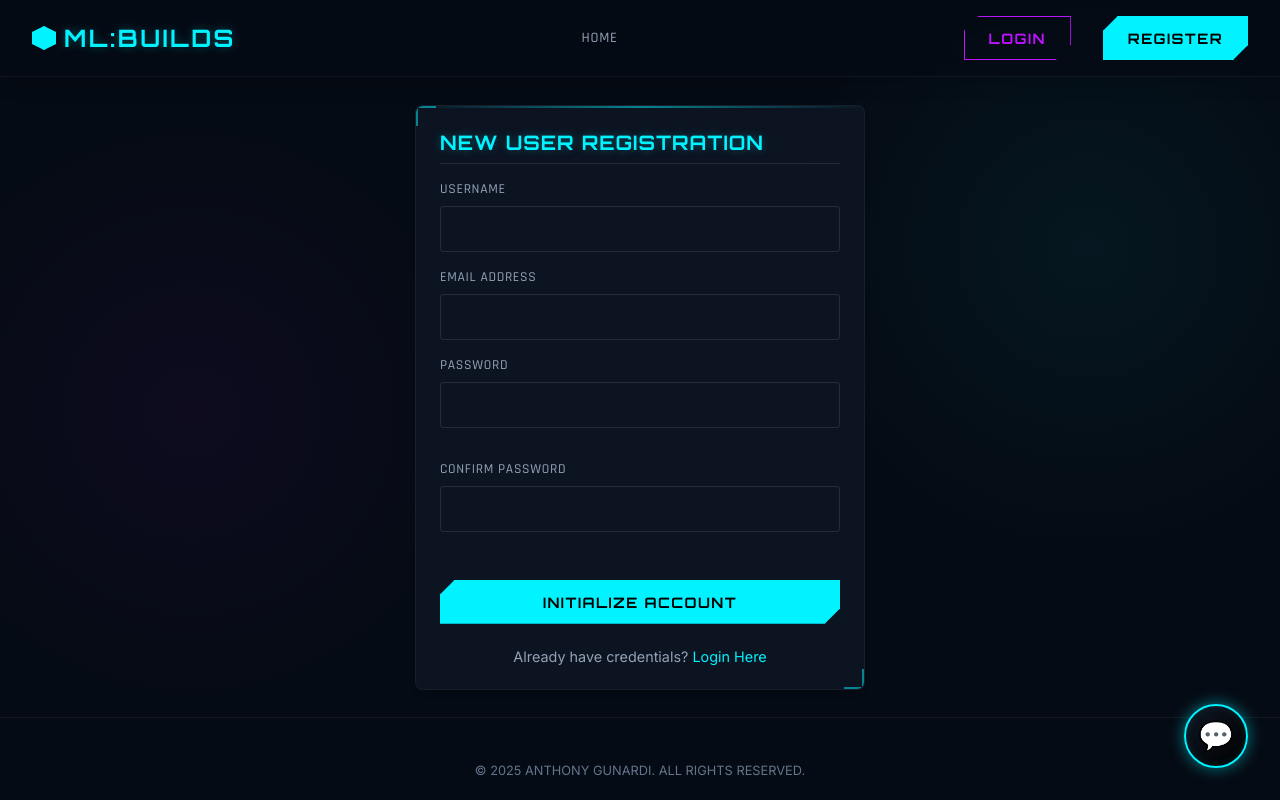
Test: RegisterPage › displays default error on register failure without API message
The image size is (1280, 800).
Type "testuser" into the field labelled "Username" at (640, 228), box top-left (440, 206), bottom-right (840, 252)
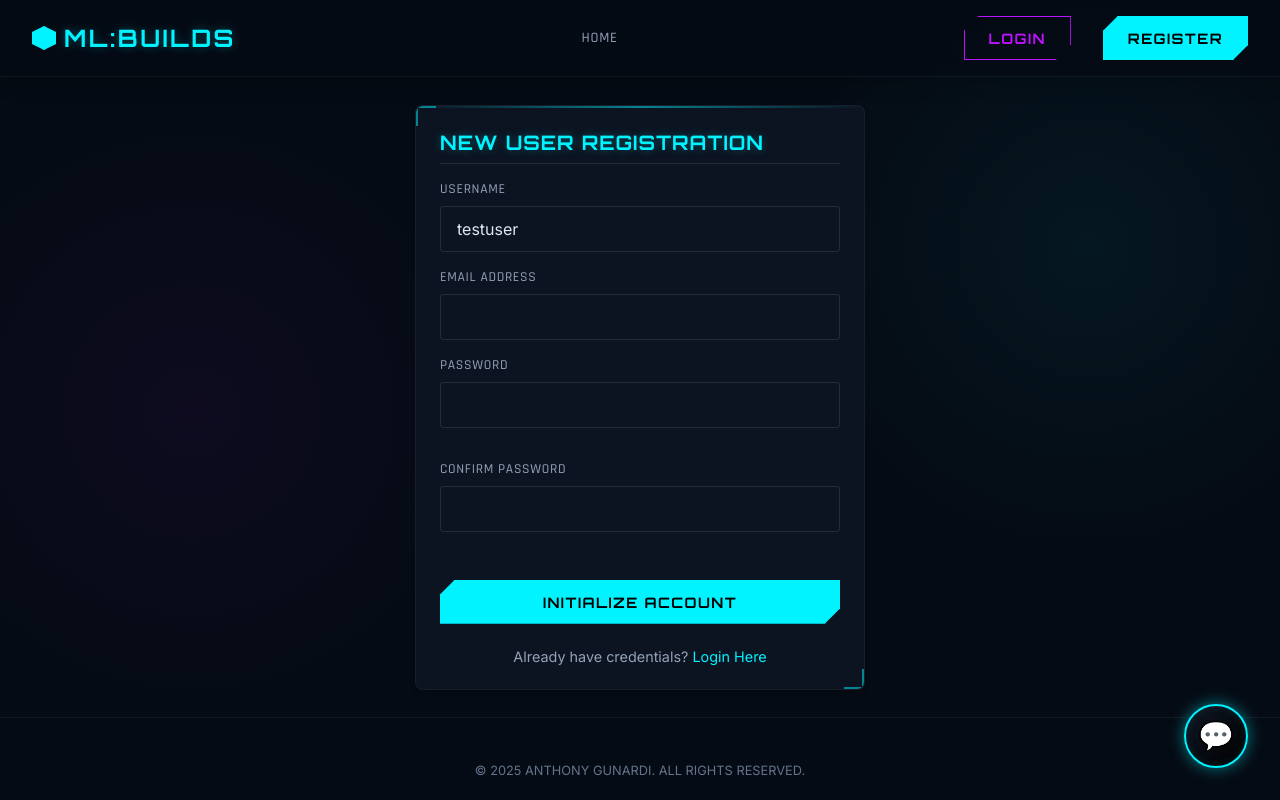
Type "test@test.com" into the field labelled "Email Address" at (640, 316), box top-left (440, 294), bottom-right (840, 340)
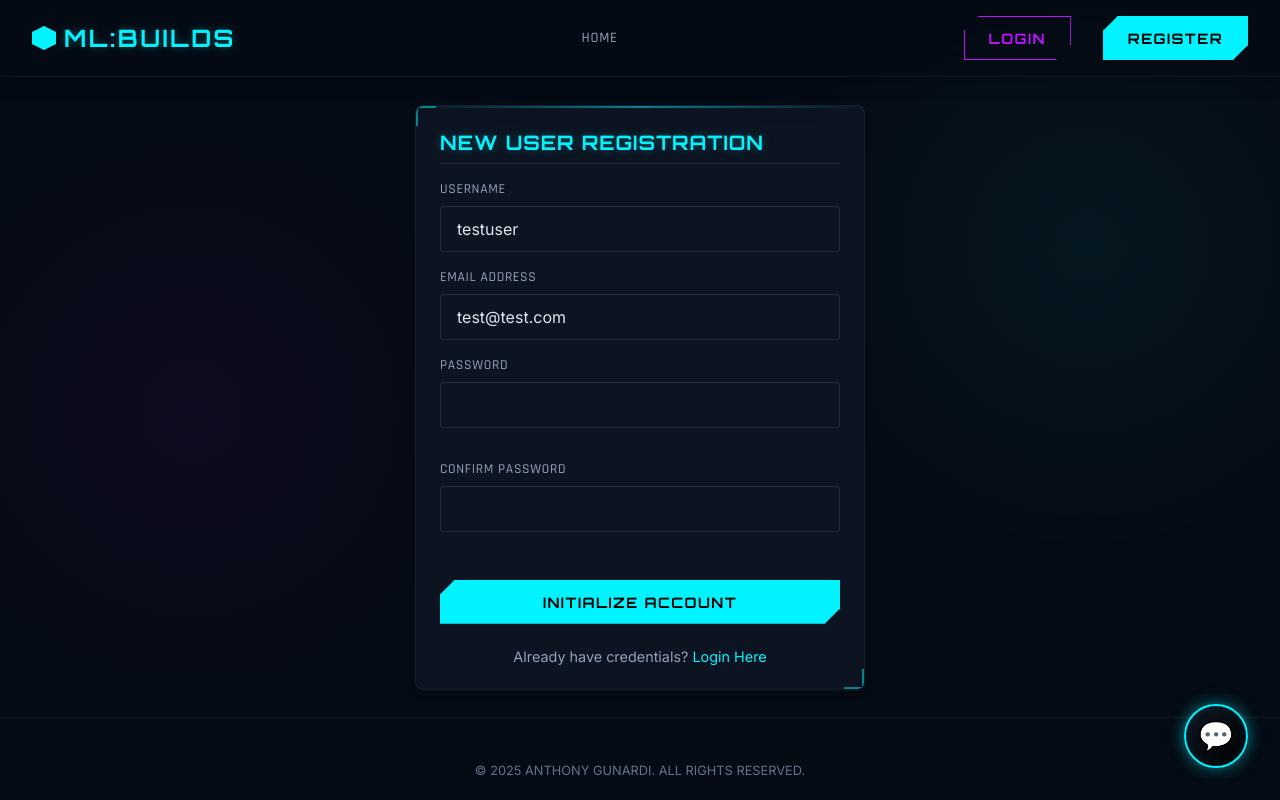
Type "password123" into the password field labelled "Password" at (640, 404), box top-left (440, 382), bottom-right (840, 428)
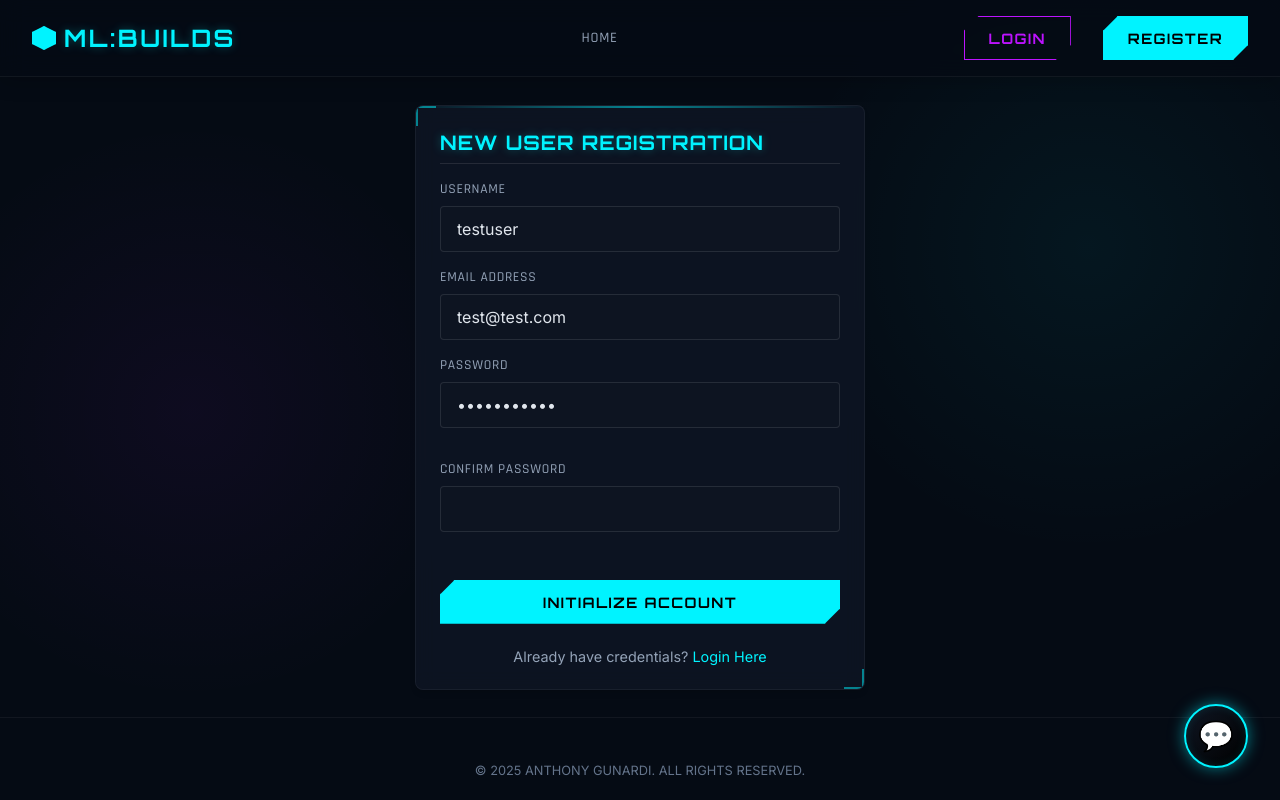
Type "password123" into the password field labelled "Confirm Password" at (640, 508), box top-left (440, 486), bottom-right (840, 532)
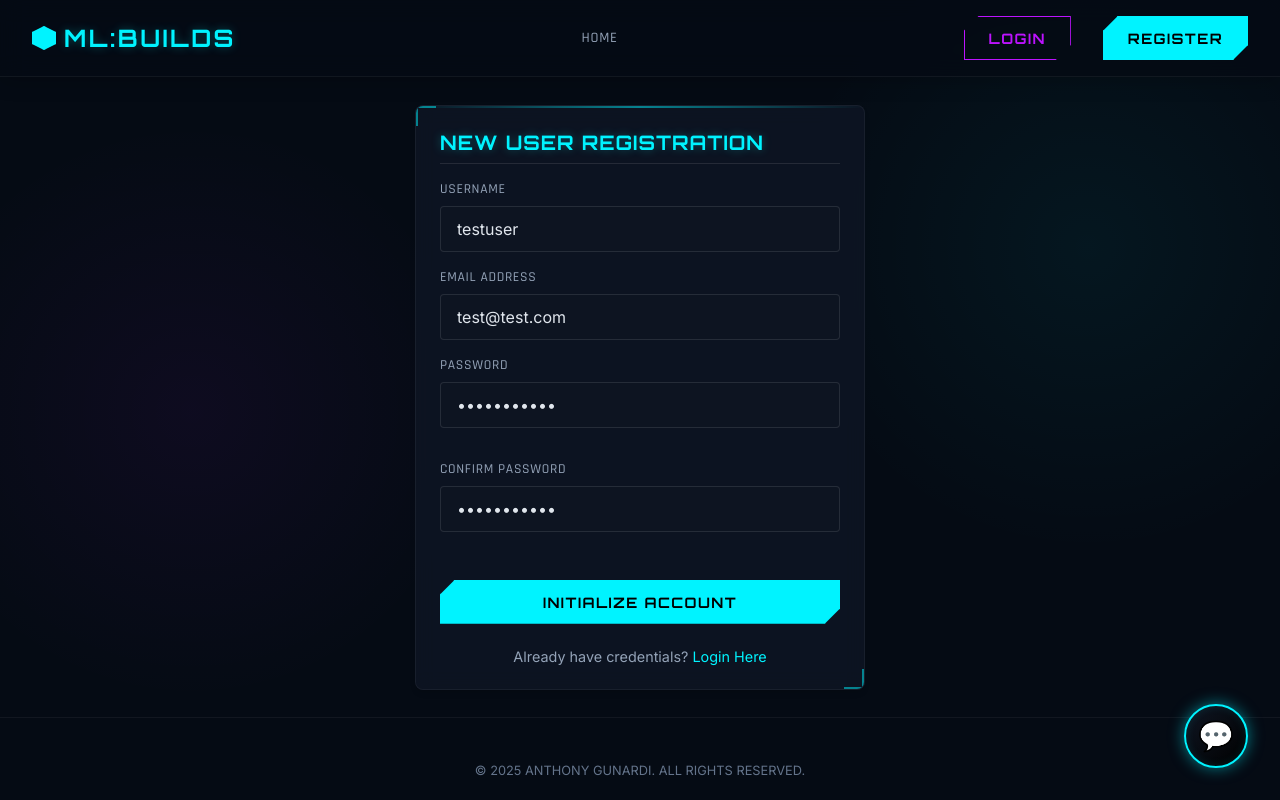
Click the button "Initialize Account" at (640, 602), box top-left (440, 580), bottom-right (840, 624)
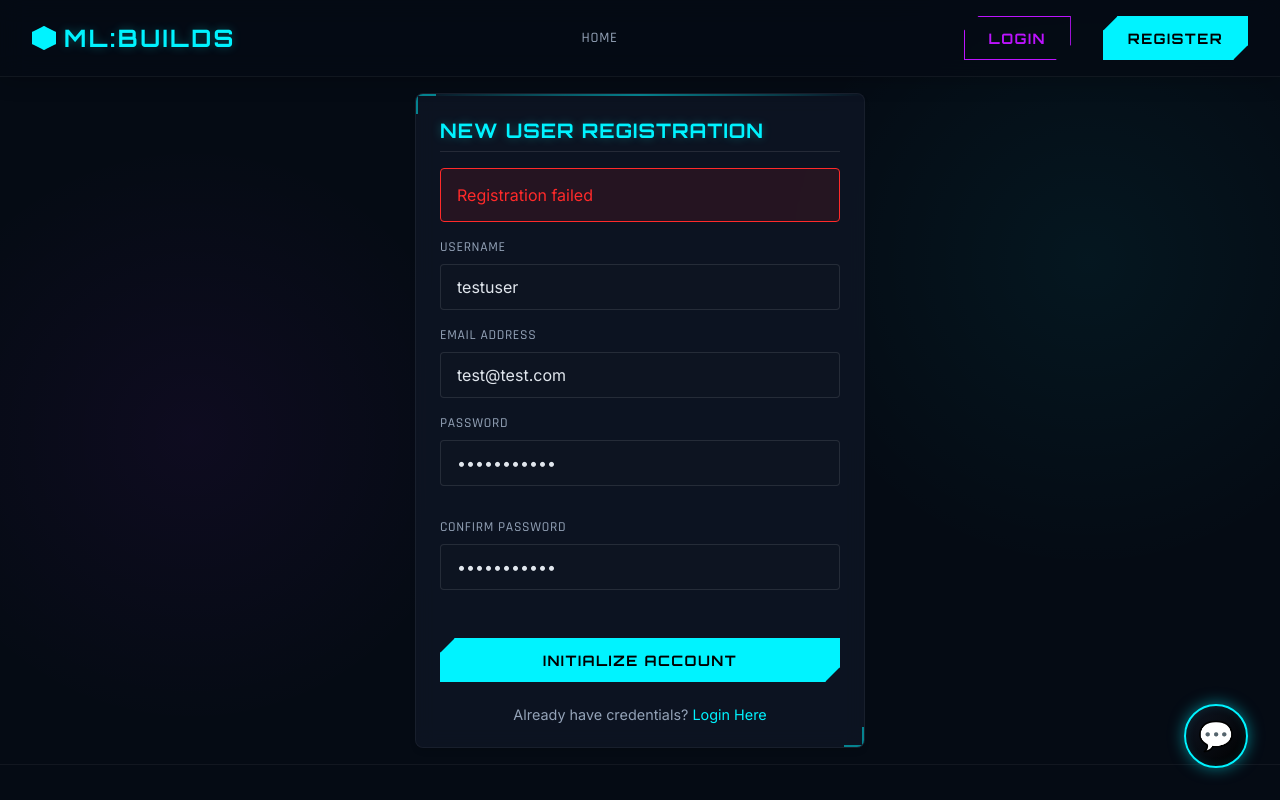
Result: the text "Registration failed" is shown at top-left (440, 168), bottom-right (840, 222)
